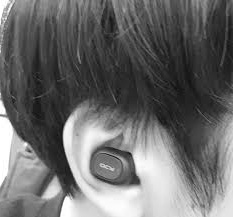earphone: (62, 98, 145, 217)
